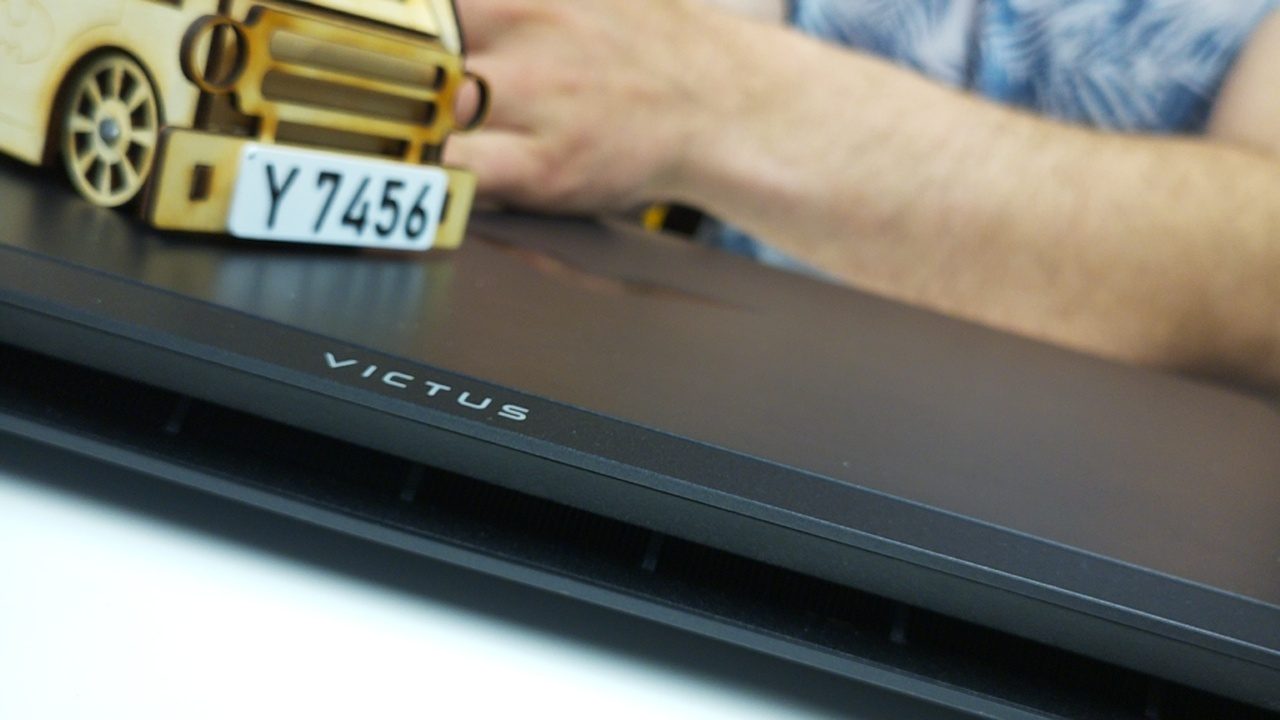license_plate: (225, 138, 451, 253)
